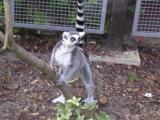cat: (45, 0, 102, 119)
